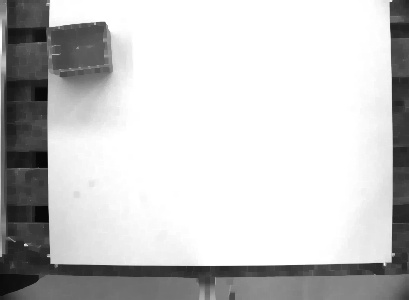klts: (44, 19, 116, 79)
